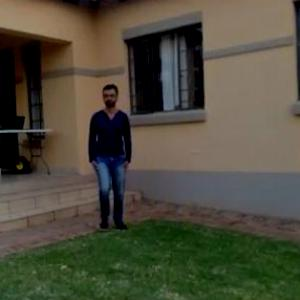follow: (87, 77, 134, 241)
